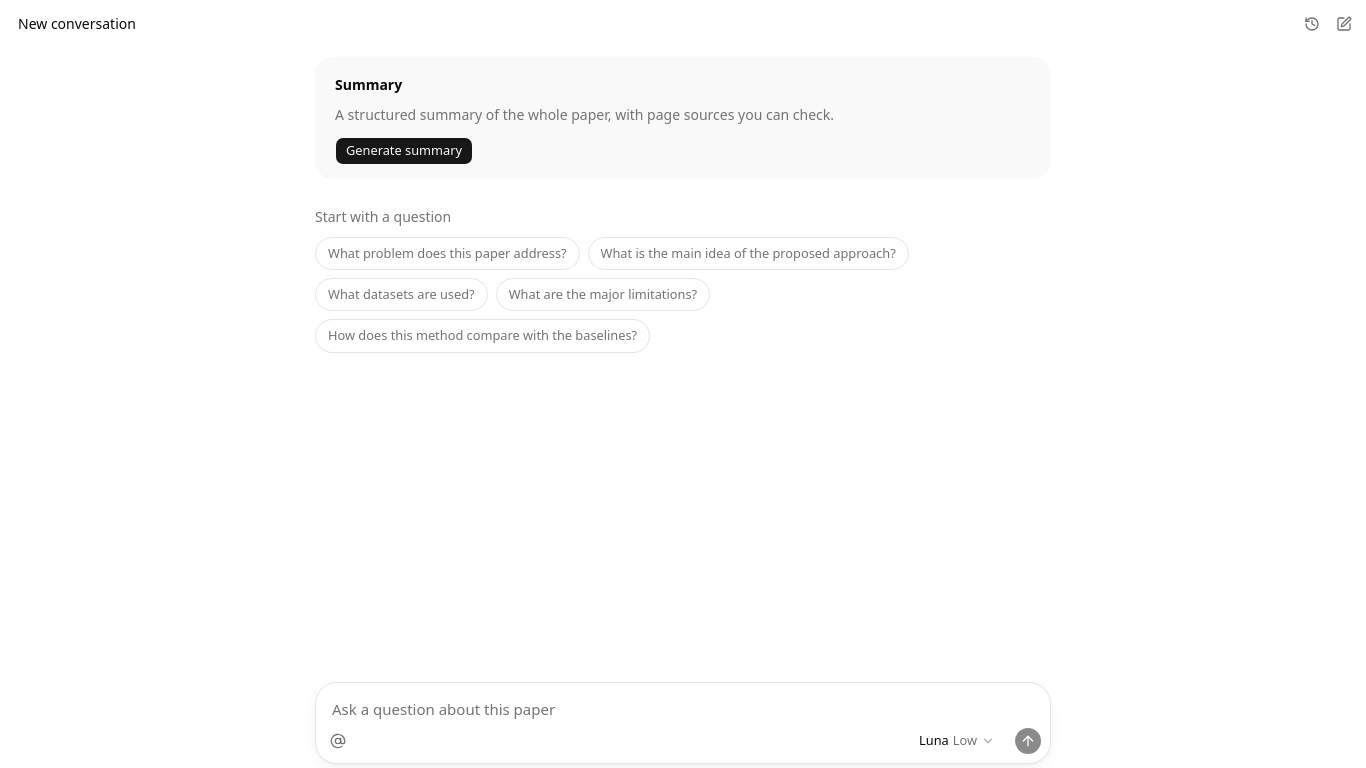
Scenario: Given the server refuses a new chat, Then the reason is shown inline
Type "Can I start?" into the field named "Question about this paper".
click(683, 705); type("Can I start?")  # box x1=316 y1=683 x2=1050 y2=727
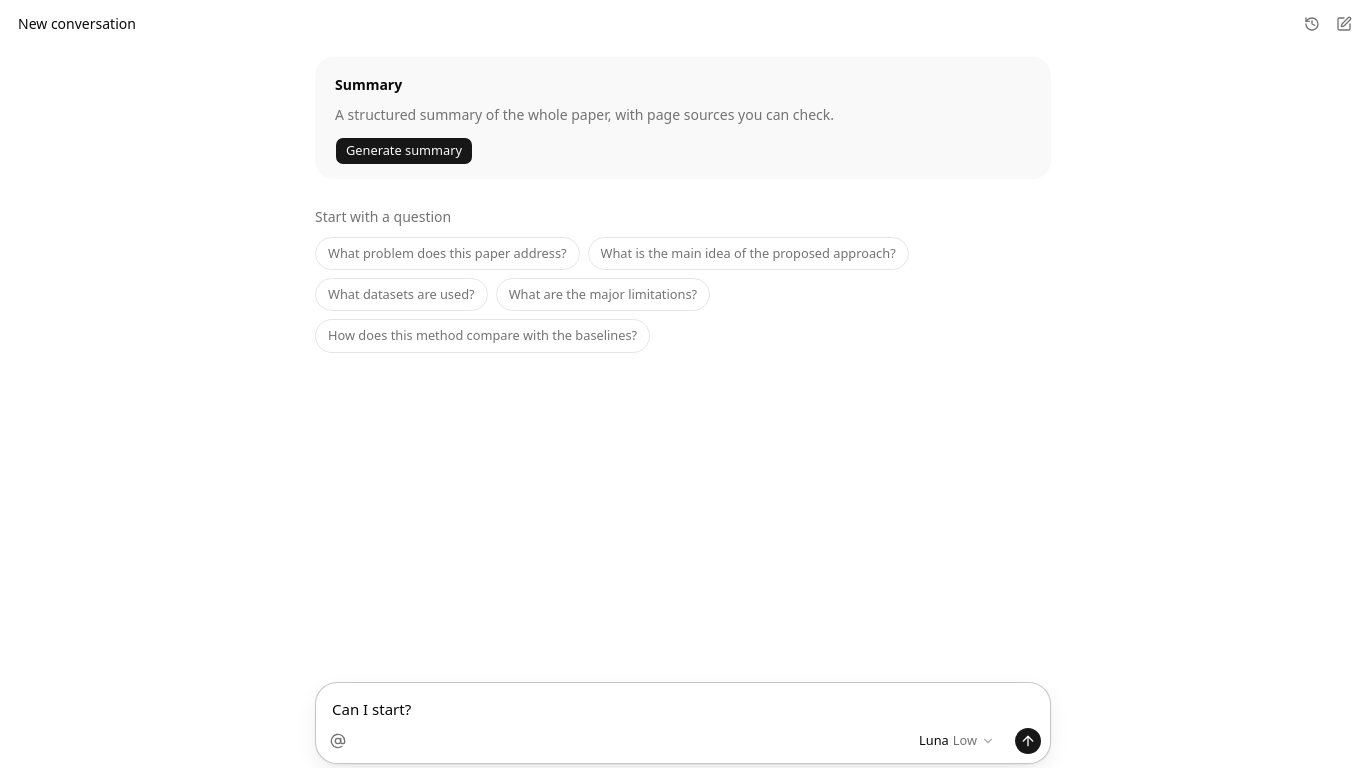
Click the button named "Ask question".
click(1028, 741)  # box x1=1014 y1=727 x2=1042 y2=755
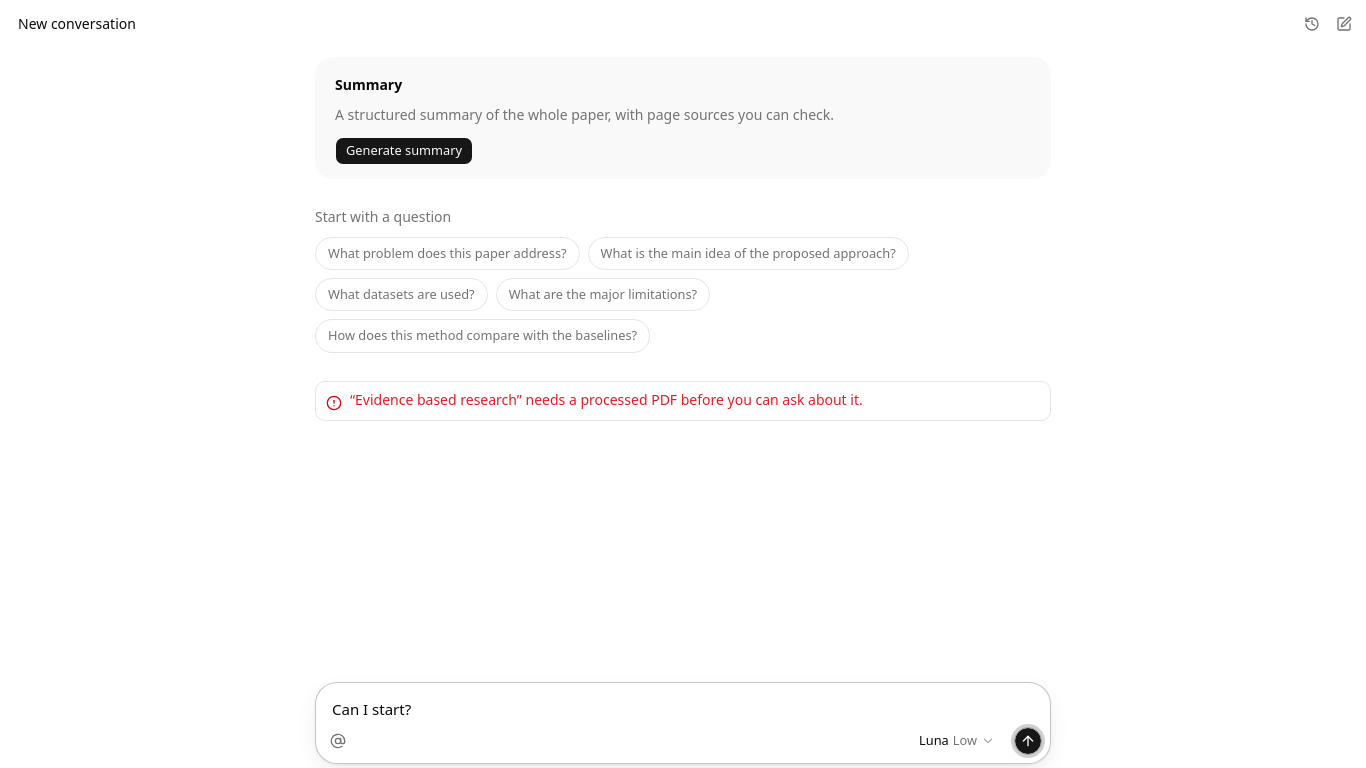
Expected: the message reads "“Evidence based research” needs a processed PDF before you can ask about it.", x1=350 y1=390 x2=863 y2=409
